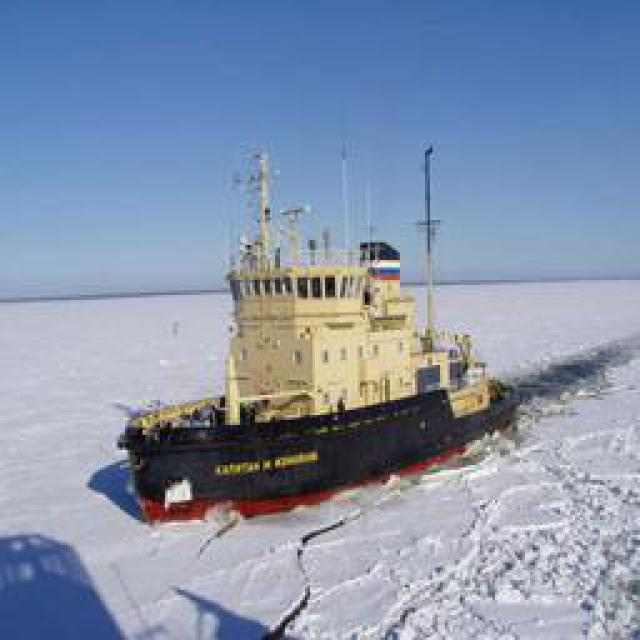Ship: (130, 126, 505, 511)
